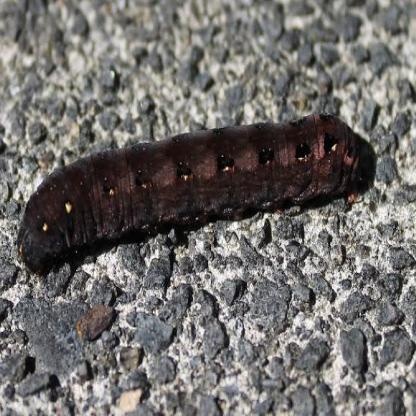armyworm: (14, 112, 381, 260)
